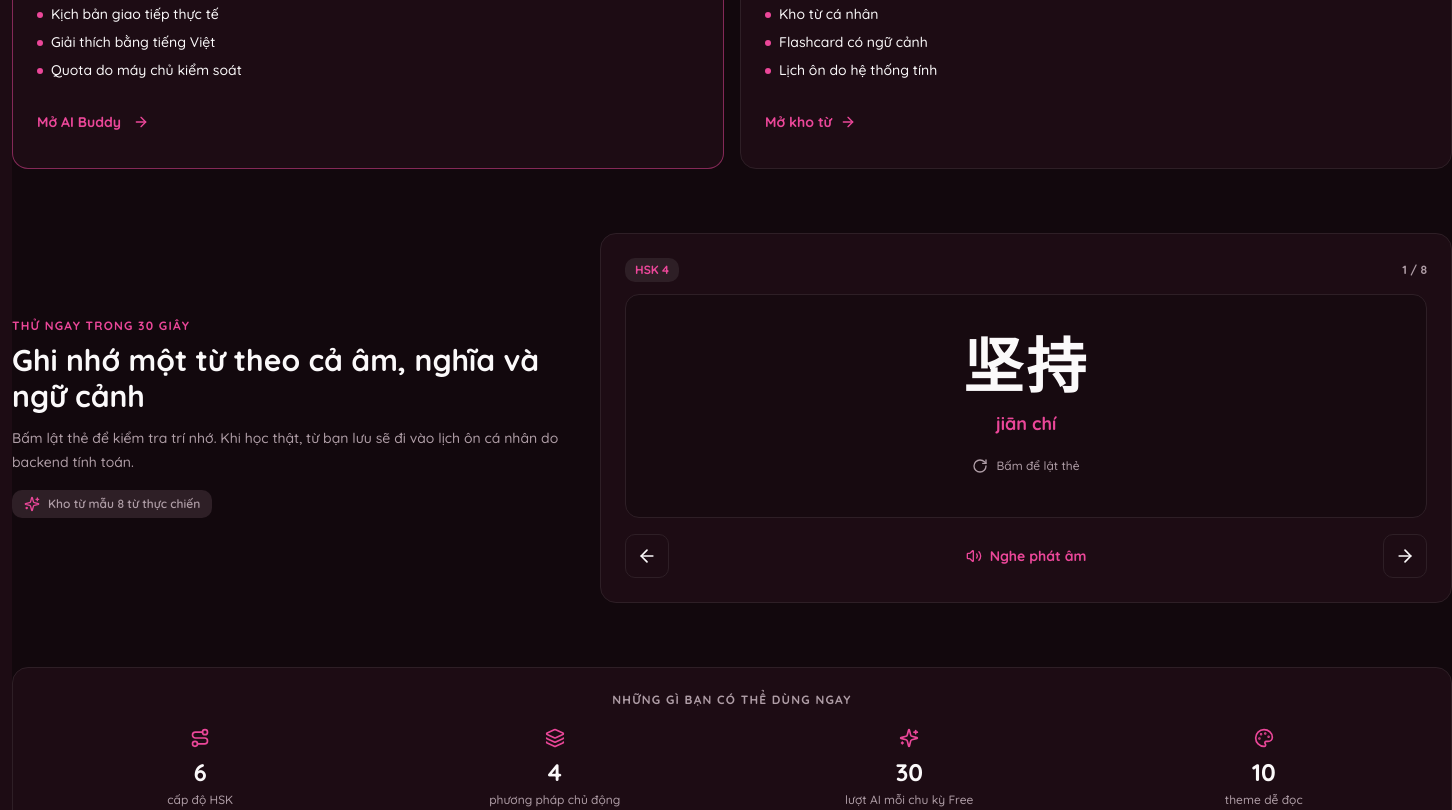
Test: HomePage › supports flipping flashcard and navigating vocabulary in interactive demo
(page scrolled)
Expected: the text with test id "flashcard-counter" reads "1 / 8", [1402,262,1427,278]
Expected: the text with test id "flashcard-hanzi" reads "坚持", [963,334,1089,401]
// Flip card to see meaning
Step 1. Click the button with test id "flashcard-demo-card" → [1026, 406], box [625,294,1427,518]
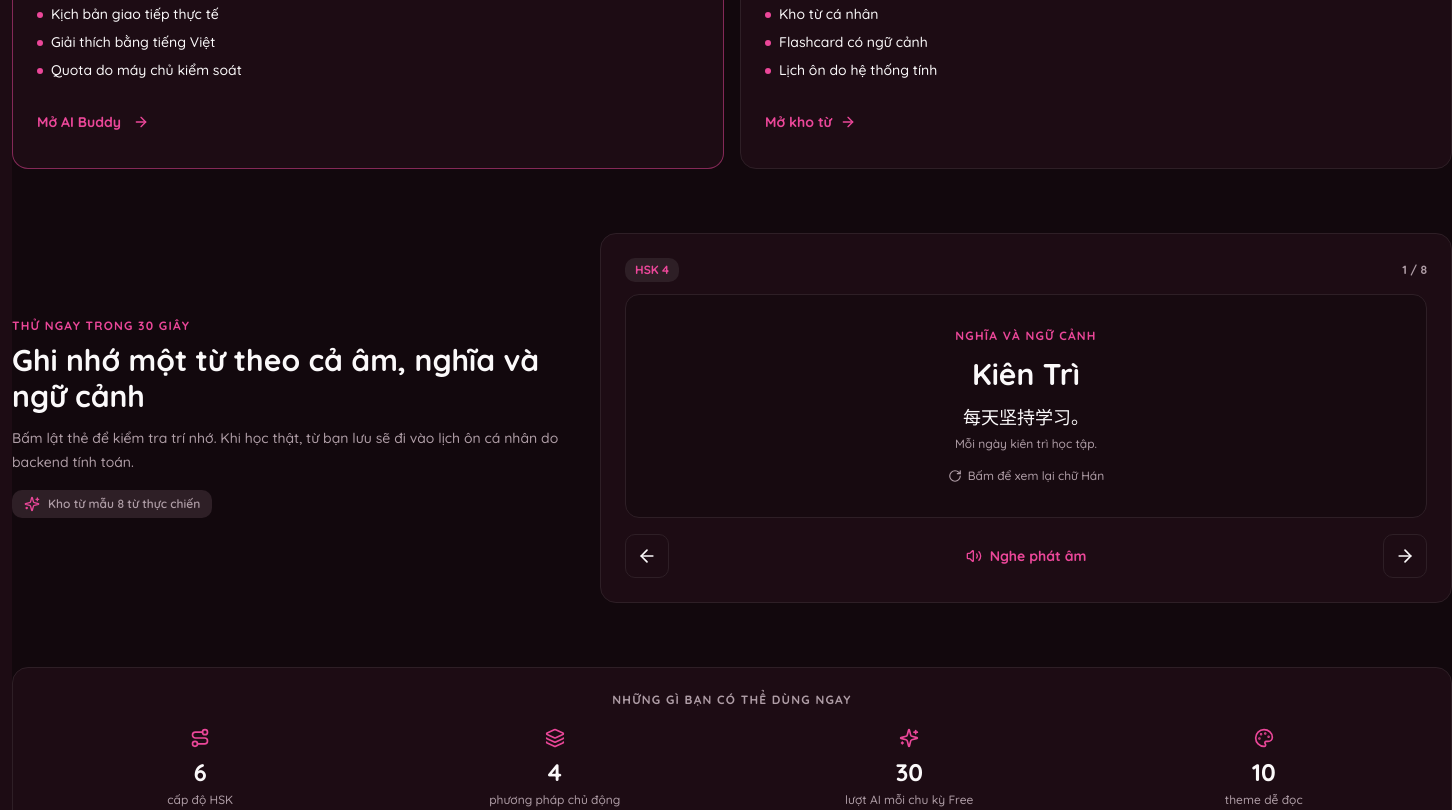
Expected: the text with test id "flashcard-meaning" reads "kiên trì", [972,355,1080,393]
Expected: the text "每天坚持学习。" is shown, [955,404,1097,432]
// Next card
Step 2. Click the button with test id "flashcard-next-btn" → [1405, 556], box [1383,534,1427,578]
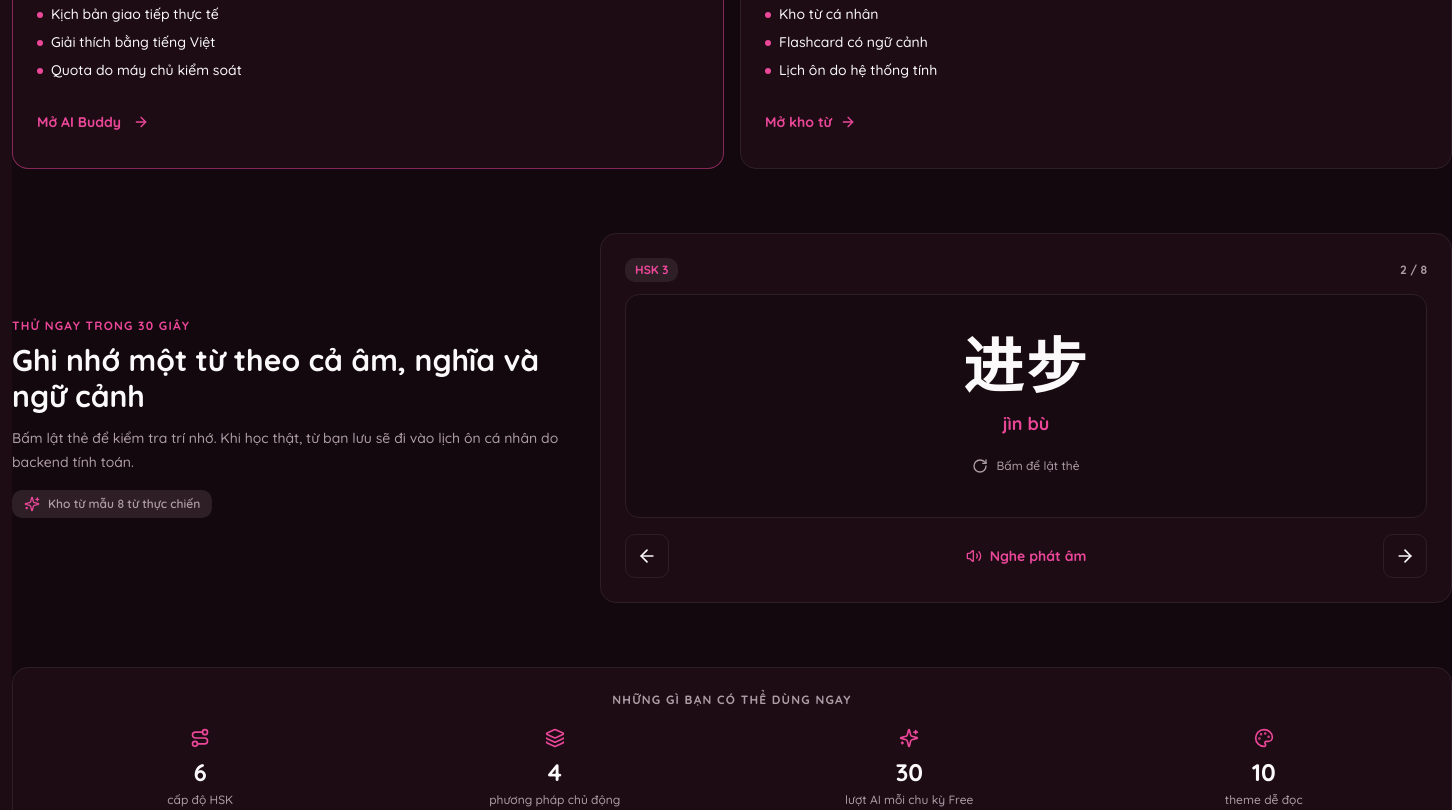
Expected: the text with test id "flashcard-counter" reads "2 / 8", [1400,262,1427,278]
Expected: the text with test id "flashcard-hanzi" reads "进步", [963,334,1089,401]
